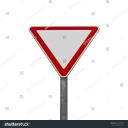preferencia: (25, 23, 105, 81)
